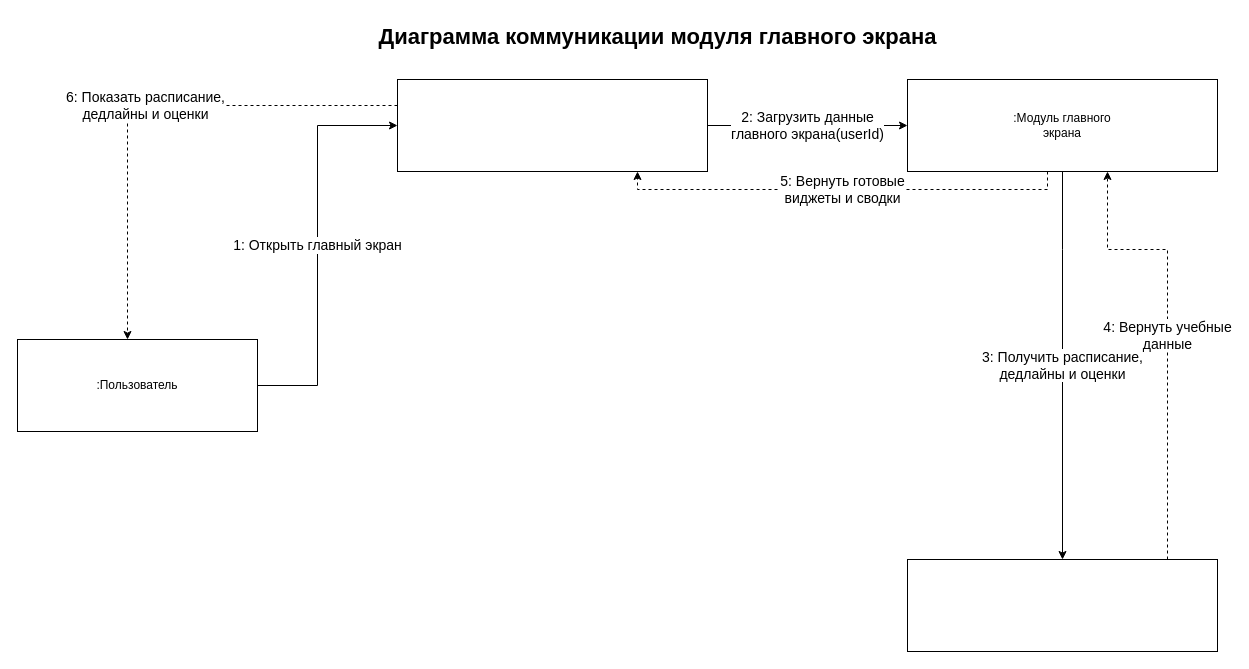
Image size: 1249x669. Some labels were removed from this diagram. Each missing label, with the box of its shape:
:Главный экран: (396, 78, 708, 172)
:Локальное хранилище: (906, 558, 1218, 652)
